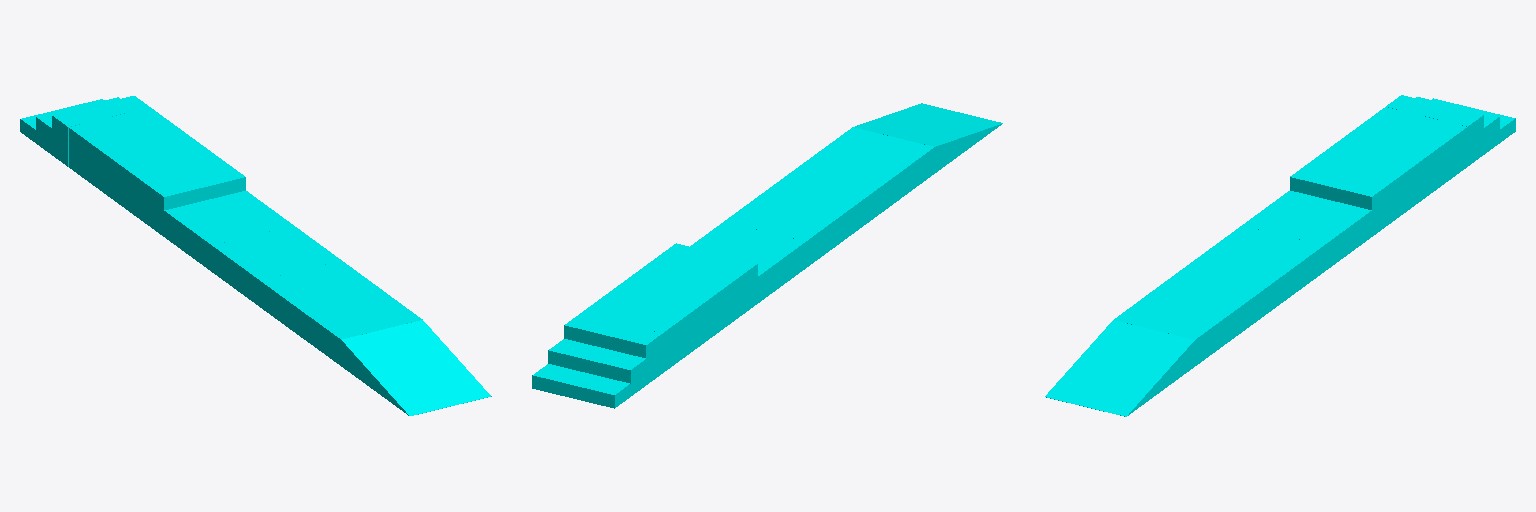
robot.urdf — stair_slope:
<?xml version="0.0" ?>
<robot name="stair_slope">
    <link cancave='yes' name="stair_slope_link">
        <contact>
            <lateral_friction value="1.0"/>
        </contact>

        <inertial>
            <origin xyz="0 0 0" rpy="0 0 0"/>
            <mass value="0.0"/>
            <inertia ixx="0"  ixy="0"  ixz="0" iyy="0" iyz="0" izz="0" />
        </inertial>

        <visual>
            <origin xyz="0 0 0" rpy="0 0 -1.57" />
            <geometry>
                <mesh filename="package://scene/meshes/stair_slope.stl" scale="0.9 0.9 0.7"/>
                <!-- <mesh filename="package://scene/meshes/stair_slope.stl"/> -->
            </geometry>
            <material name="Cyan">
                <color rgba="0 1.0 1.0 1.0"/>
            </material>
        </visual>

        <collision concave='yes'>
            <origin xyz="0 0 0" rpy="0 0 -1.57"/>
            <geometry>
                <mesh filename="package://scene/meshes/stair_slope.stl" scale="0.9 0.9 0.7"/>
                <!-- <mesh filename="package://scene/meshes/stair_slope.stl"/> -->
            </geometry>
        </collision>
    </link>
</robot>

--- What the picture shows (computed from the rendered views, not written in the file) ---
Views: 3 orthographic renders of the robot side by side, from view 1: azimuth 30°, elevation 25°; view 2: azimuth 150°, elevation 25°; view 3: azimuth 330°, elevation 25°.
Robot: stair_slope — 1 links, 0 joints (none); root link stair_slope_link; default pose: every joint at zero.
Visible links, largest first — view 1: stair_slope_link; view 2: stair_slope_link; view 3: stair_slope_link.
Link boxes in pixels (<box>): stair_slope_link: <box>20,96,491,415</box>; stair_slope_link: <box>532,103,1002,408</box>; stair_slope_link: <box>1045,95,1515,416</box>.
Size in the robot's own frame: 0.9051 by 7.39 by 0.4205 metres.
1 mesh visuals loaded from 1 distinct referenced files (1 binary STL).